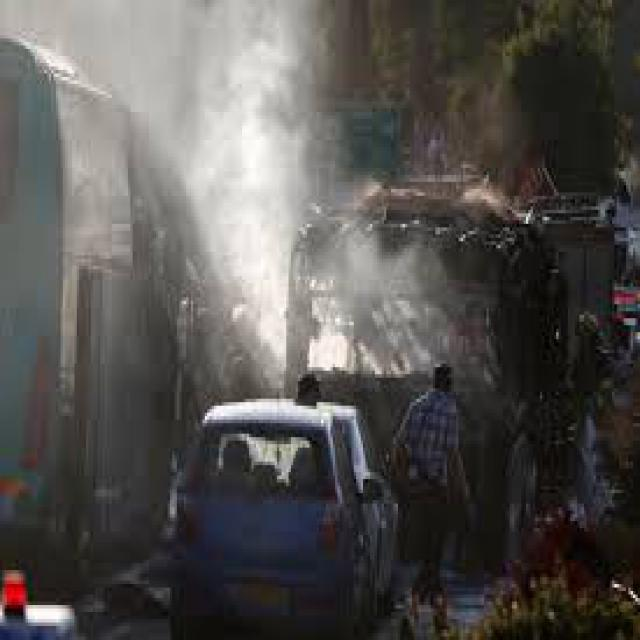smoke: (168, 3, 438, 370)
